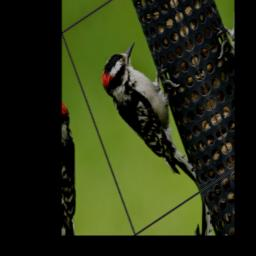Woodpecker: (95, 23, 210, 214)
